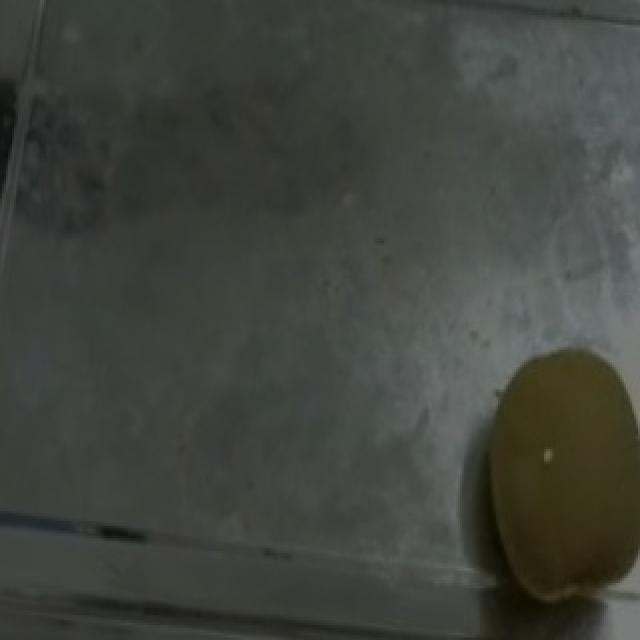Fruit: (450, 335, 640, 635)
